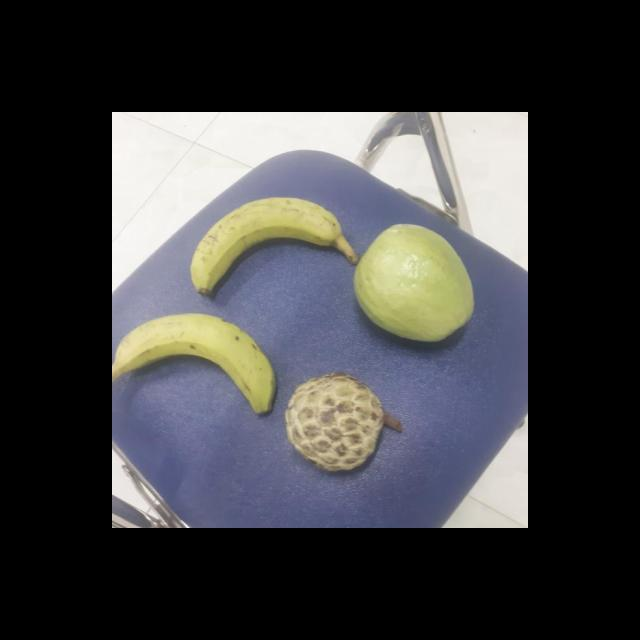Sakya fruit: (286, 370, 401, 472)
banana: (112, 312, 277, 420), (194, 199, 359, 299)
guava: (353, 228, 478, 342)
